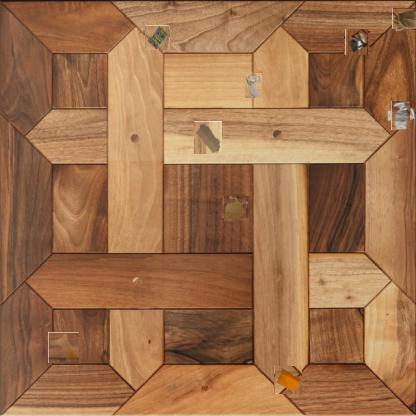dirty: (193, 123, 224, 153), (274, 366, 302, 394), (388, 103, 413, 128), (345, 30, 369, 55), (145, 26, 170, 50), (392, 6, 416, 30), (244, 72, 262, 98)
liquid: (48, 332, 79, 363), (223, 194, 248, 220)
